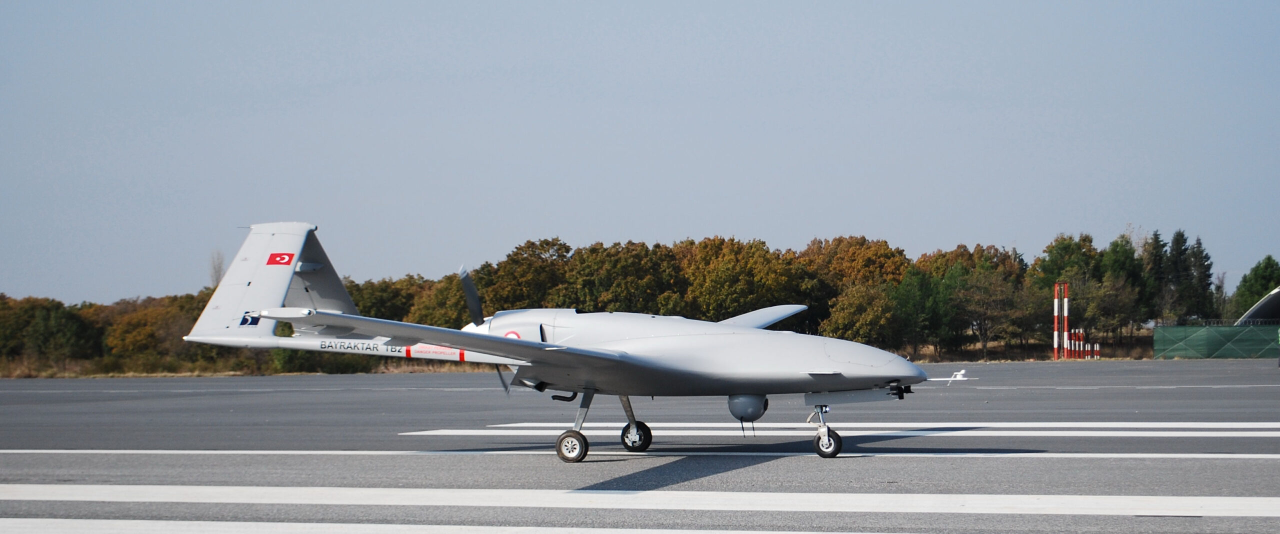military drone: (182, 221, 978, 462)
